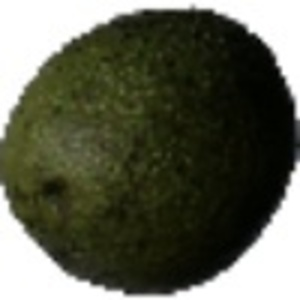abacate: (4, 5, 295, 294)
